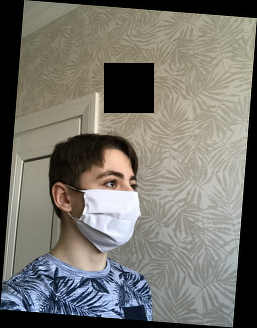with_mask: (79, 163, 142, 257)
